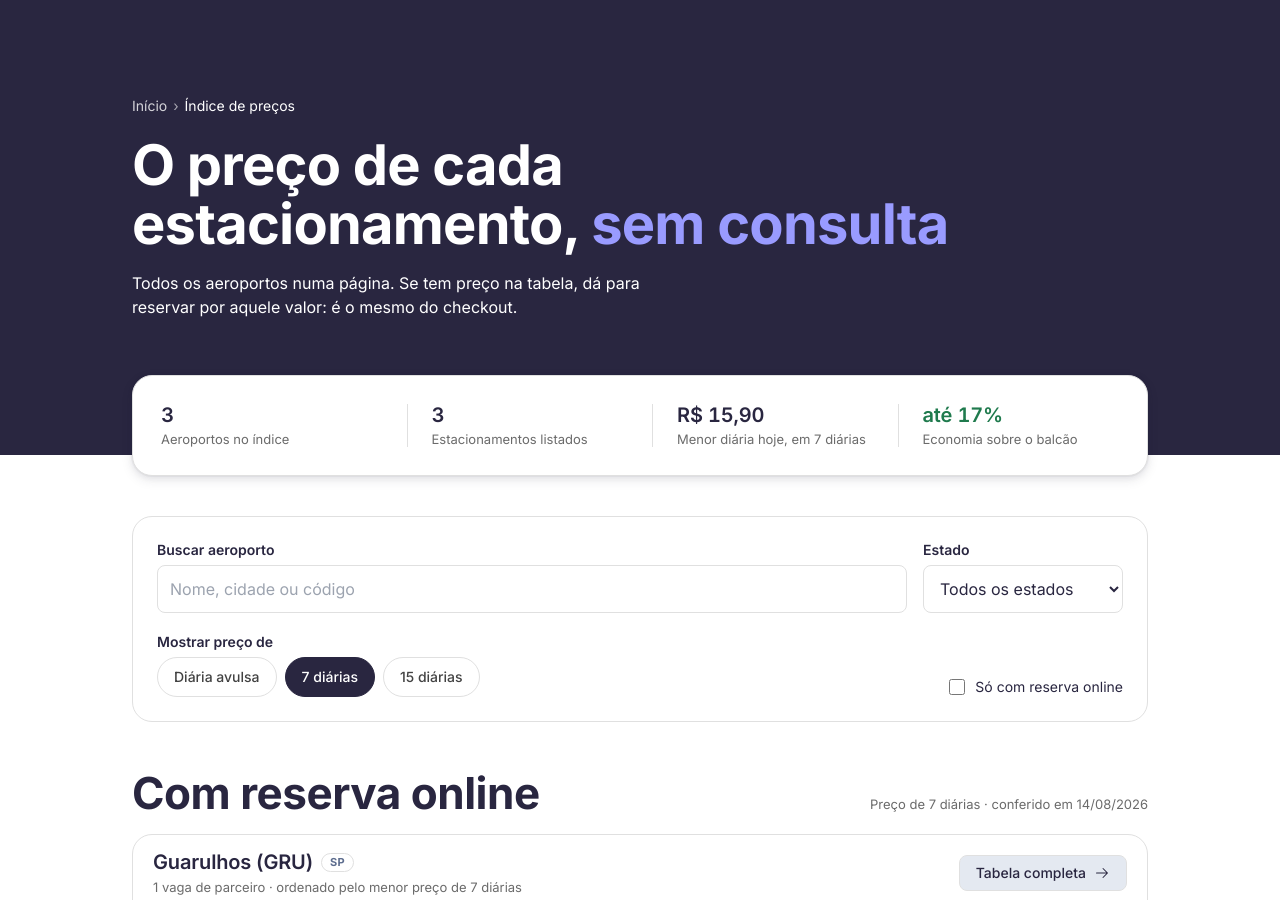
PrecosPage › filtro sem resultado explica e oferece o limpar
Type "galeao" into the search field labelled "Buscar aeroporto".
click(532, 589); type("galeao")  # box [157,565,907,613]
(page scrolled)
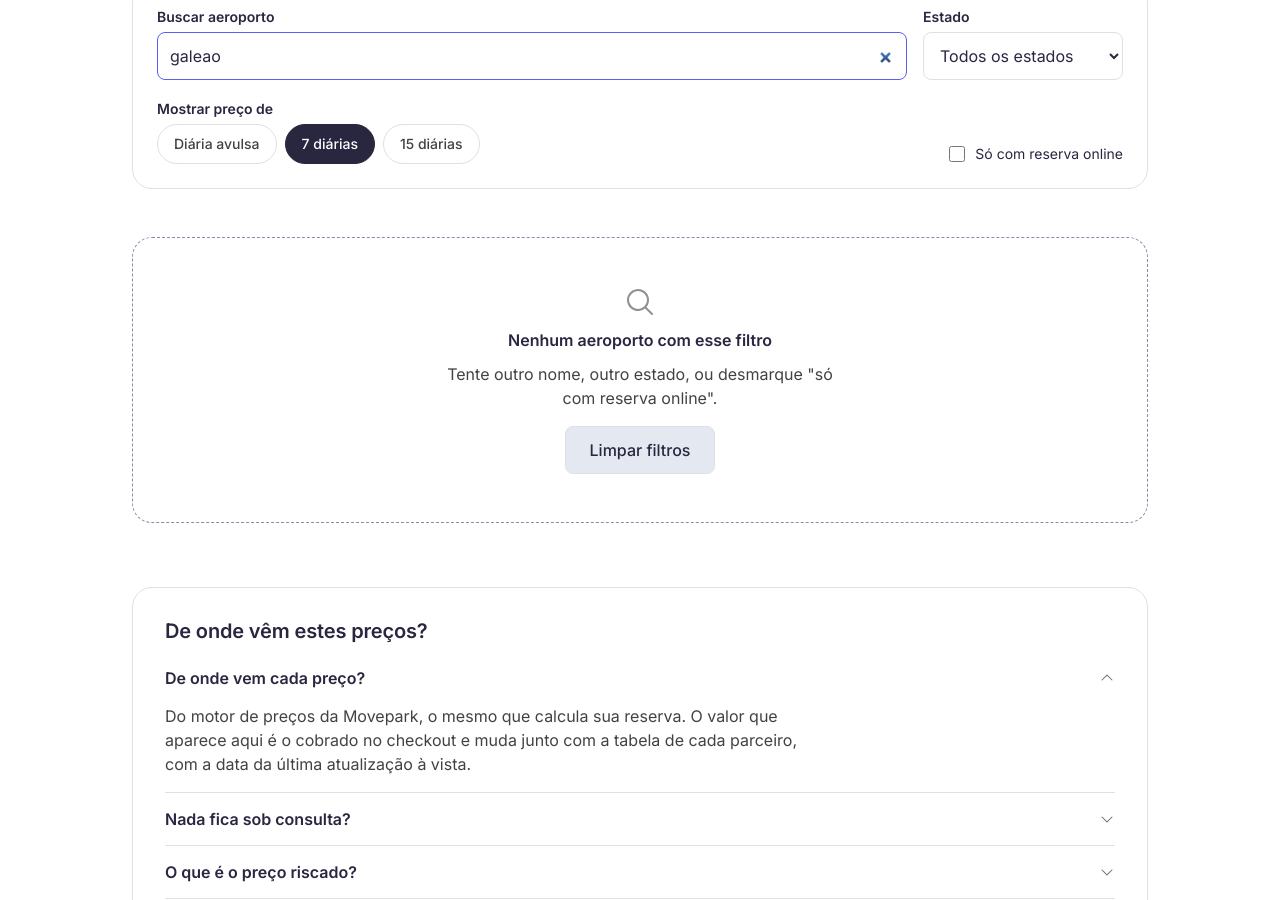
Result: the text "Nenhum aeroporto com esse filtro" is shown at [508,330,772,350]
Result: the button "Limpar filtros" is shown at [564,426,715,474]
